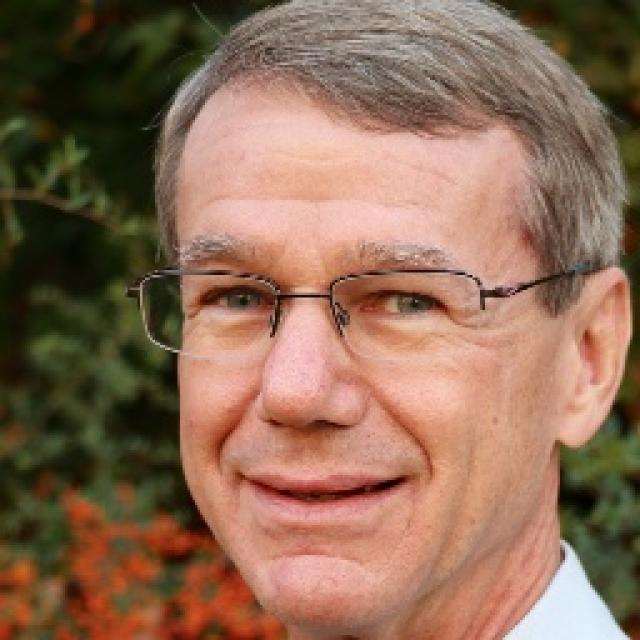earlobe: (556, 389, 596, 450)
eye: (358, 287, 446, 318), (195, 282, 271, 312)
nose: (244, 403, 365, 472)
wholeear: (557, 266, 632, 450)
